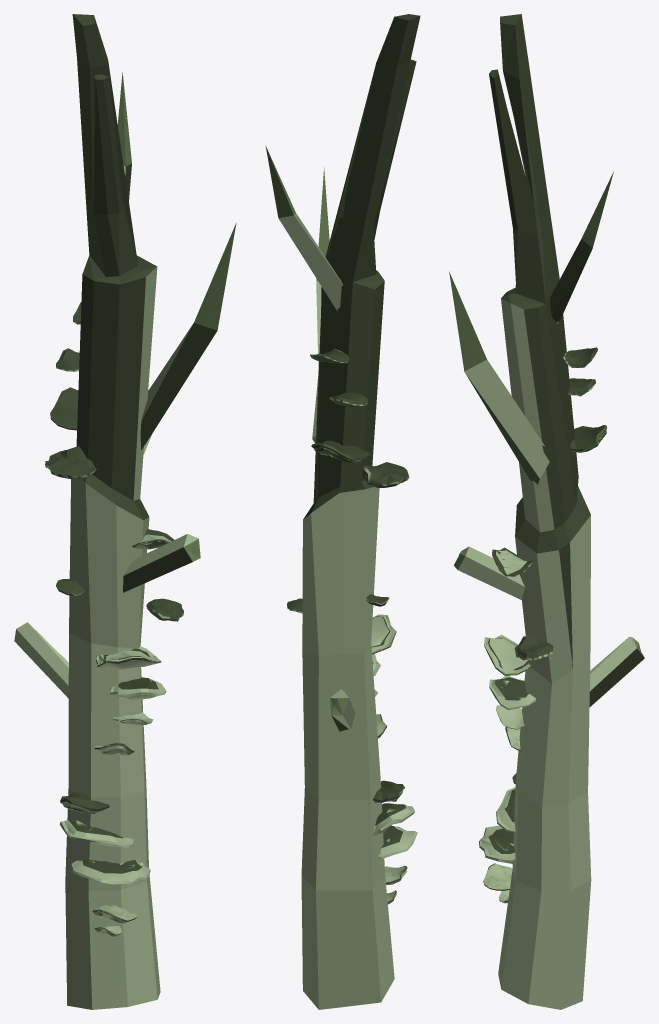
Rendered from EA_Swamp_BrokenTree_02c.glb.
3 views of the same model, side by side, from view 1: azimuth 30°, elevation 25°; view 2: azimuth 150°, elevation 25°; view 3: azimuth 270°, elevation 25° (orthographic). The views are drawn at different scales.
Parts seen in each view (by area): view 1: EA_Swamp_BrokenTree_02c; view 2: EA_Swamp_BrokenTree_02c; view 3: EA_Swamp_BrokenTree_02c.
Boxes of the visible parts, x1=… form: EA_Swamp_BrokenTree_02c: x1=14, y1=14, x2=236, y2=1009; EA_Swamp_BrokenTree_02c: x1=265, y1=14, x2=420, y2=1009; EA_Swamp_BrokenTree_02c: x1=449, y1=14, x2=644, y2=1009.
Size of the model in its own units: 1.28 by 9.09 by 1.68.
1 material, 1 textured.
